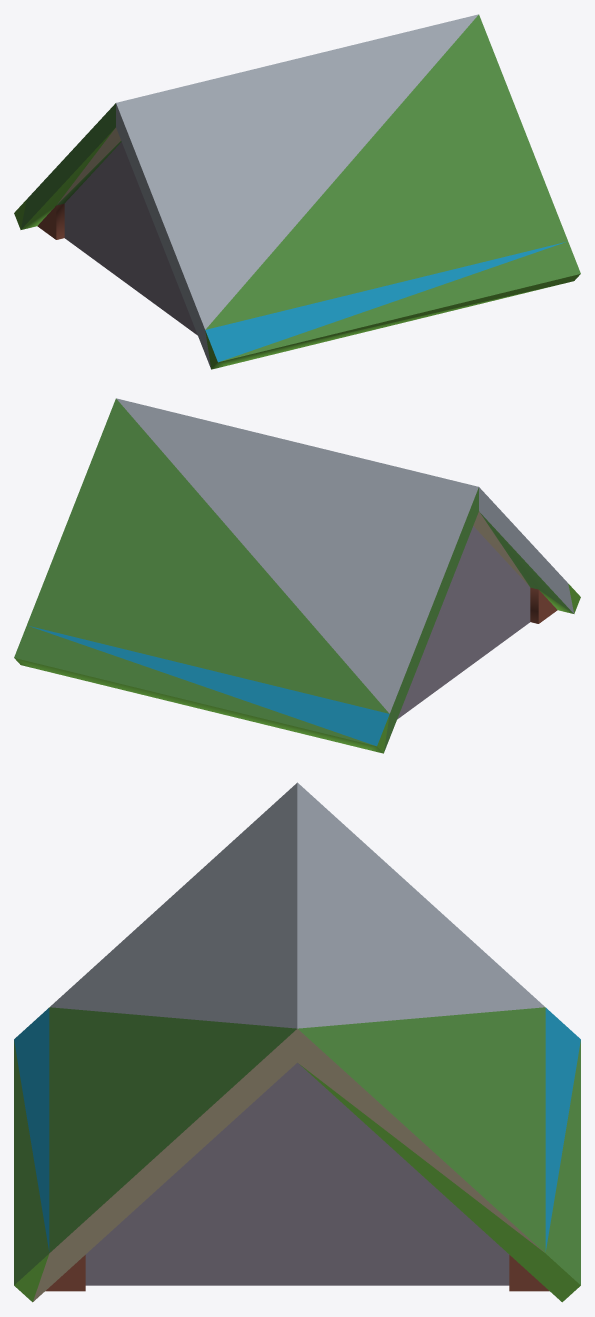
3 views of the same model, one above another, from view 1: azimuth 30°, elevation 25°; view 2: azimuth 150°, elevation 25°; view 3: azimuth 270°, elevation 25° (orthographic). The views are drawn at different scales.
Parts seen in each view (by area): view 1: model; view 2: model; view 3: model.
Boxes of the visible parts, x1,y1,x2,y2 form: model: (14,14,580,369); model: (14,398,580,753); model: (14,782,580,1302).
Size of the model in its own units: 2.2 by 1.14 by 2.14.
